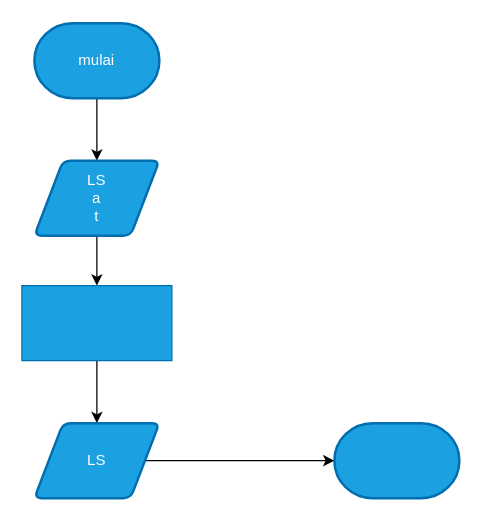
Image size: 483x520. Some labels were removed from this diagram. Each missing label, with the centre of its shape:
"end" goes at (x=396, y=460).
"LS=1/2 x a x t" goes at (x=96, y=322).
